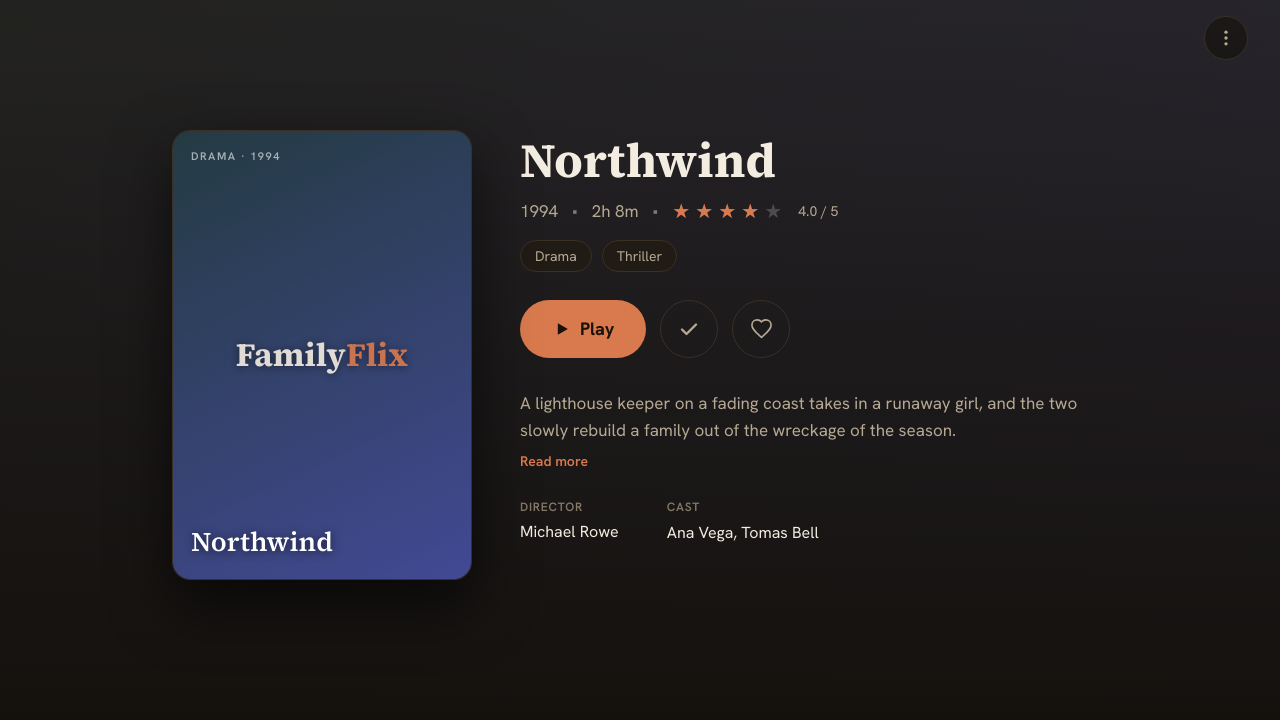
Scenario: MovieDetail — TMDB’s rating as the picker’s placeholder › brings the placeholder back when the Rating is cleared
This screenshot has width=1280, height=720.
Expected: the text "TMDB" is not shown
Click the button named "Clear rating".
click(756, 211)  # box [751,201,761,221]
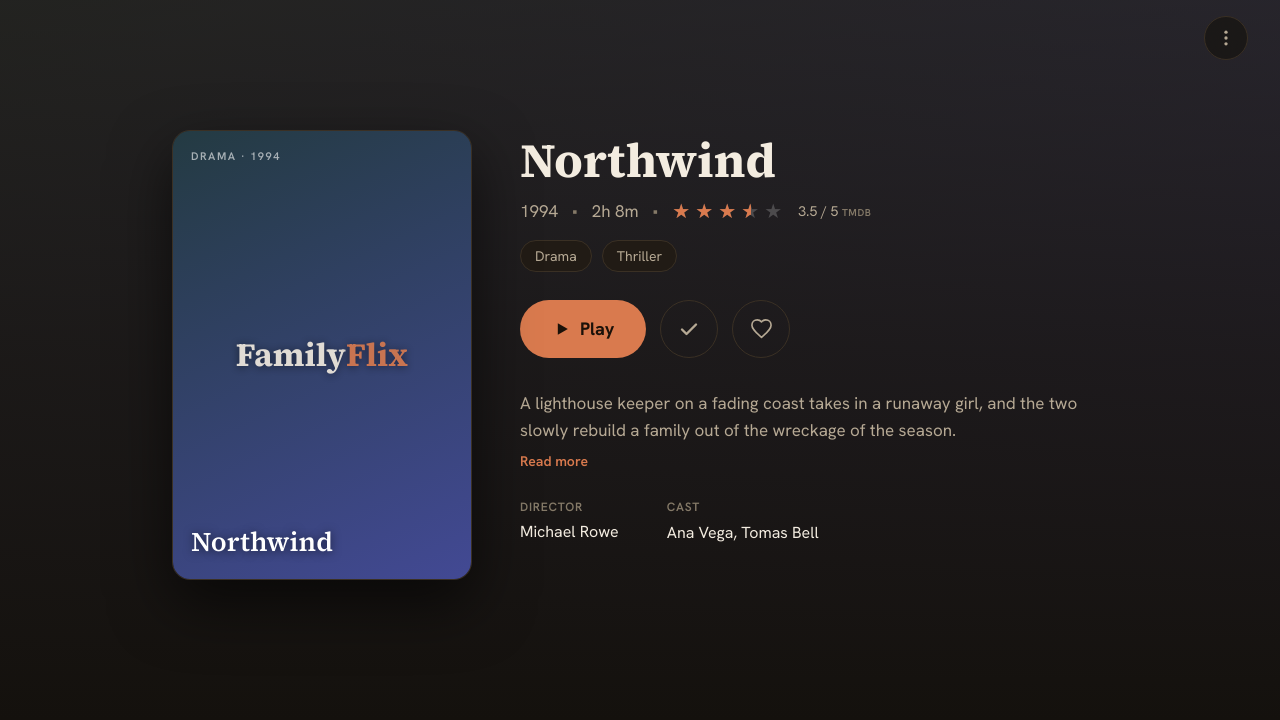
Now the element showing "★ ★ ★ ★ ★ ★ ★ ★ ★ 3.5 / 5 TMDB" is shown, box [672,201,872,221]
Now the text "TMDB" is shown, box [842,206,872,219]
